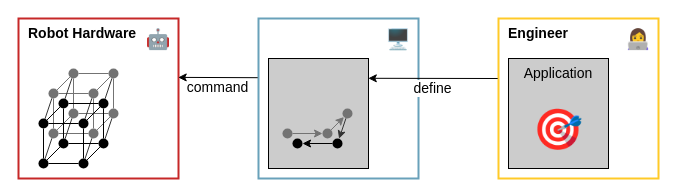
This 676x196 diagram has some shape labels left out. The shapes that lost their labels are listed below. From the top down, each one's box as (x1, y1, x2, y2) in pixels, then its label:
(268, 58, 368, 168): Program
(257, 17, 419, 179): Controller
